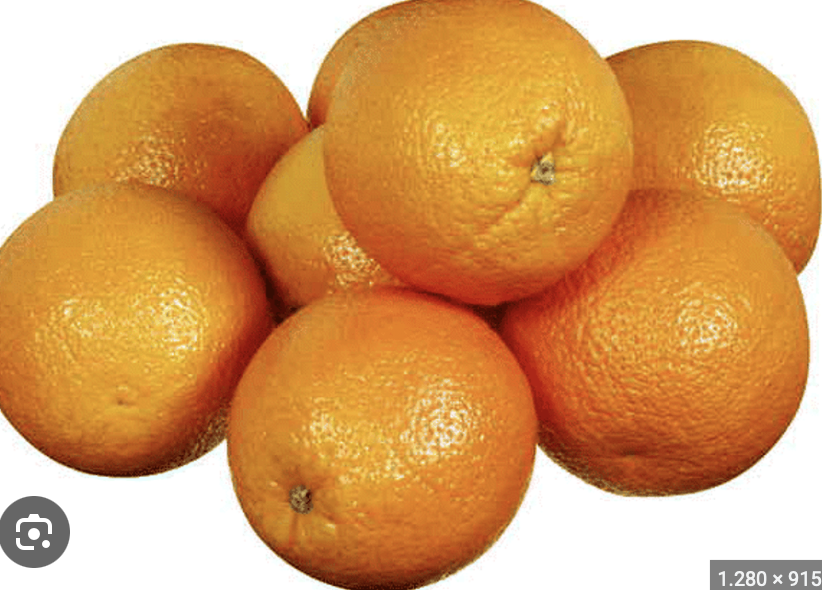orange: (484, 175, 822, 503), (205, 287, 538, 590), (313, 0, 656, 289), (0, 162, 254, 473)
